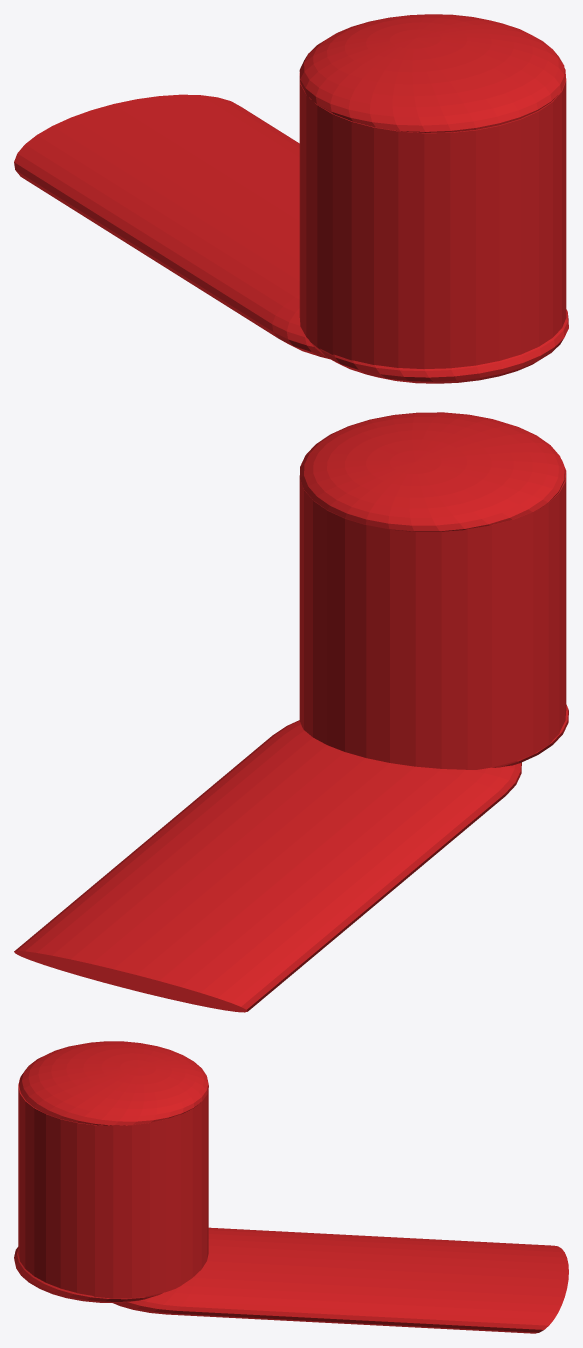
The picture shows the model from 3 angles, top to bottom: view 1: azimuth 30°, elevation 25°; view 2: azimuth 150°, elevation 25°; view 3: azimuth 270°, elevation 25°; orthographic projection. The views are drawn at different scales.
Parts seen in each view (by area): view 1: Suspension_del_iz_001; view 2: Suspension_del_iz_001; view 3: Suspension_del_iz_001.
Boxes of the visible parts, x1,y1,x2,y2 form: Suspension_del_iz_001: (14,14,568,383); Suspension_del_iz_001: (14,412,568,1012); Suspension_del_iz_001: (14,1041,568,1333).
Size of the model in its own units: 2 by 5.82 by 2.79.
